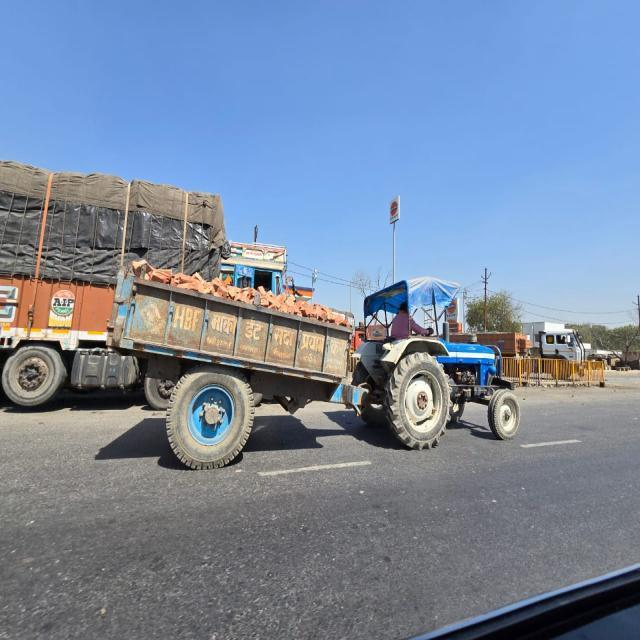covered: (0, 150, 227, 260)
uncovered: (129, 264, 382, 452)
